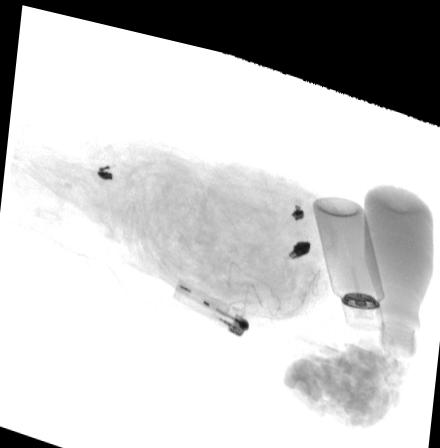Lighter: (171, 269, 250, 326)
Sprayer: (311, 180, 385, 313)
